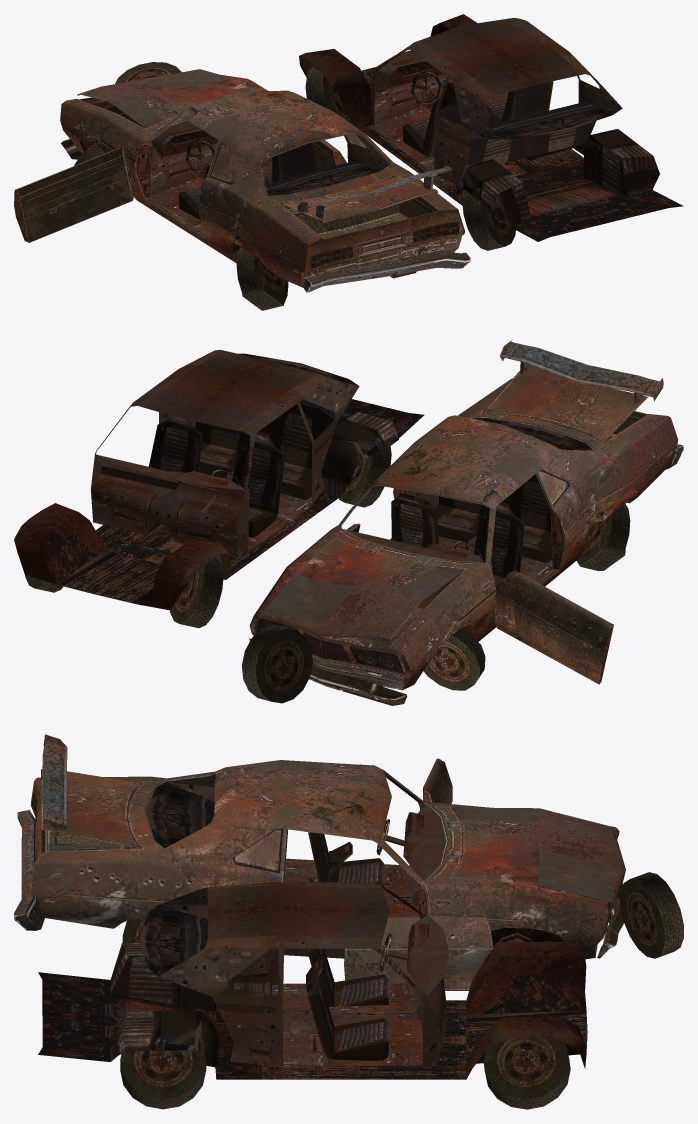
Rendered from p54_12_wreck_chassis.glb.
3 renders of one model, top to bottom at view 1: azimuth 30°, elevation 25°; view 2: azimuth 150°, elevation 25°; view 3: azimuth 270°, elevation 25°, orthographic. The views are drawn at different scales.
Parts seen in each view (by area): view 1: Body_2, Body_1; view 2: Body_2, Body_1; view 3: Body_2, Body_1.
Part boxes in pixels (<box>): Body_2: <box>74,14,683,310</box>; Body_1: <box>14,69,470,292</box>; Body_2: <box>14,349,636,703</box>; Body_1: <box>249,339,683,705</box>; Body_2: <box>38,773,683,1109</box>; Body_1: <box>14,734,625,990</box>.
Size of the model in its own units: 5.89 by 1.55 by 5.77.
2 materials, 2 textured.
